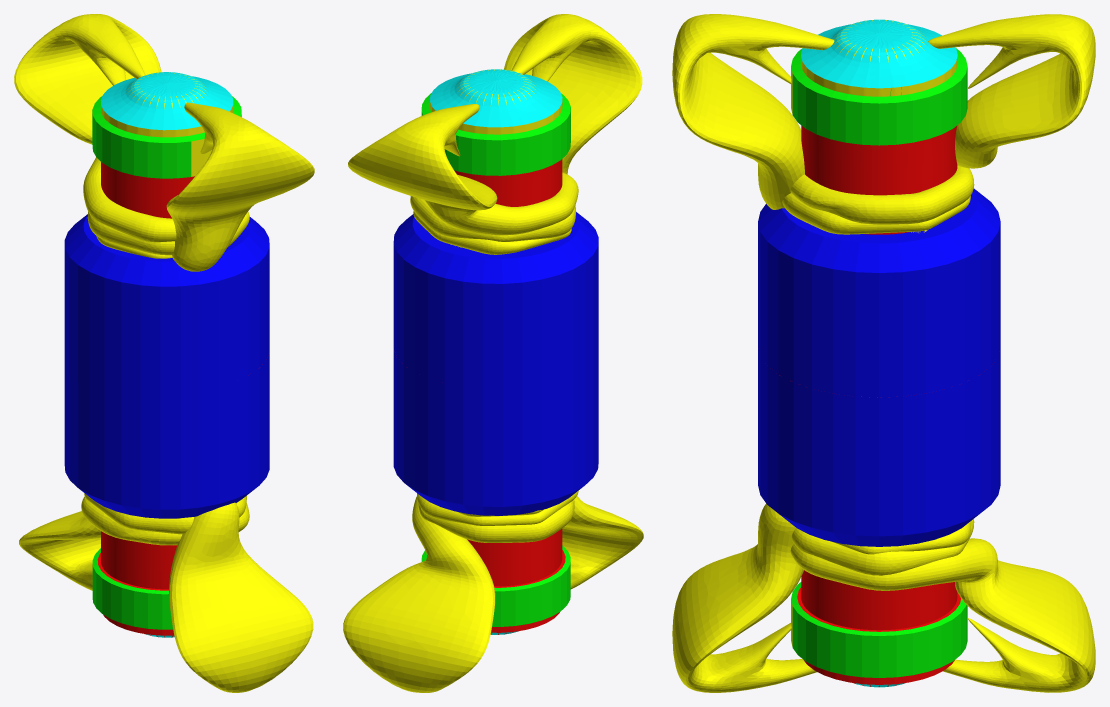
File: snakeaftercolorid2.fbx
The picture shows the model from 3 angles, left to right: view 1: azimuth 30°, elevation 25°; view 2: azimuth 150°, elevation 25°; view 3: azimuth 270°, elevation 25°; orthographic projection. The views are drawn at different scales.
Parts seen in each view (by area): view 1: snake1; view 2: snake1; view 3: snake1.
Part boxes in pixels (x1,y1,x2,y2): snake1: (14,14,314,692); snake1: (343,14,643,692); snake1: (672,14,1095,692).
Size of the model in its own units: 309 by 936 by 539.
